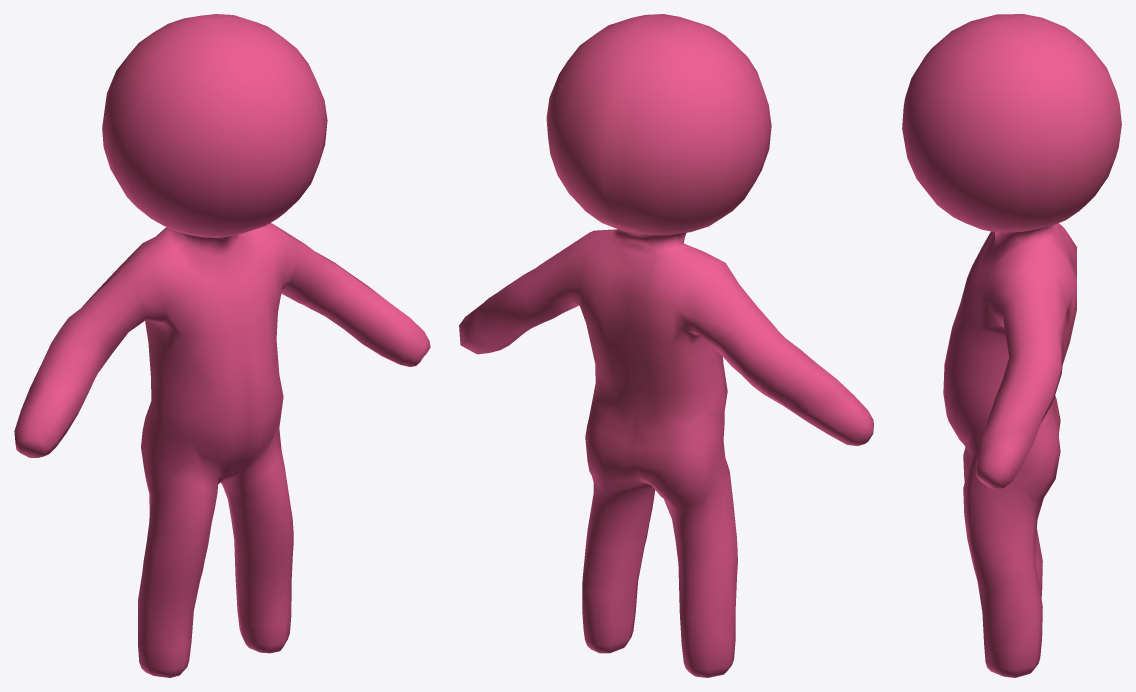
The model's file is enemyFat.fbx.
3 renders of one model, left to right at view 1: azimuth 30°, elevation 25°; view 2: azimuth 150°, elevation 25°; view 3: azimuth 270°, elevation 25°, orthographic.
Visible parts, largest first — view 1: Stickman_heads_sphere; view 2: Stickman_heads_sphere; view 3: Stickman_heads_sphere.
Part boxes in pixels (bbox=[...]): Stickman_heads_sphere: bbox=[14, 14, 430, 677]; Stickman_heads_sphere: bbox=[459, 14, 873, 677]; Stickman_heads_sphere: bbox=[902, 14, 1121, 677].
Size of the model in its own units: 1.27 by 1.86 by 0.5932.
1 material, 1 textured.
